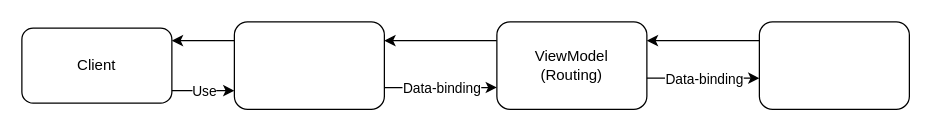
This 931x131 diagram has some shape labels left out. Here are the shapes that lost their labels. From the top down, the centre of each, then its label:
point (308, 65): View (User events)
point (833, 65): Model (Networking)
